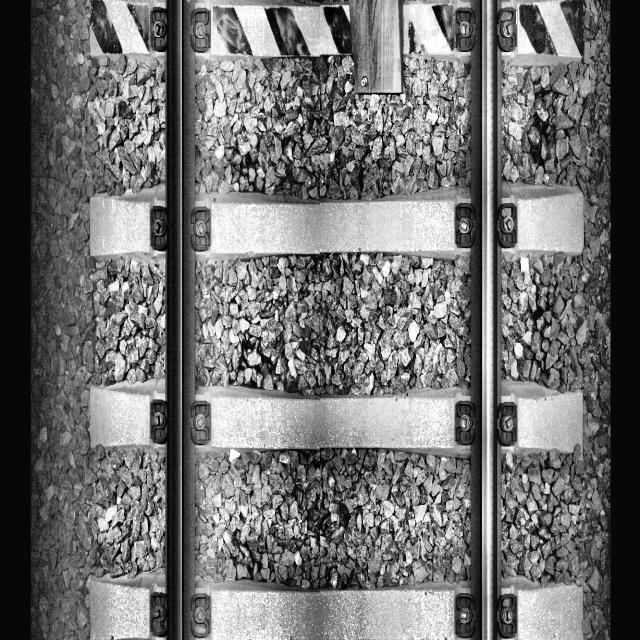Clips: (190, 205, 212, 251), (454, 7, 476, 53), (190, 8, 212, 53), (497, 592, 518, 639), (454, 203, 476, 247), (497, 7, 518, 53), (454, 593, 475, 638), (455, 401, 476, 445), (498, 202, 518, 248), (498, 401, 518, 447), (191, 400, 211, 445), (190, 594, 211, 636), (149, 205, 168, 249), (150, 6, 168, 52), (150, 592, 168, 637), (150, 399, 168, 444)
Sleepers: (89, 388, 584, 458), (90, 577, 584, 640), (88, 192, 582, 254), (92, 0, 583, 55)
